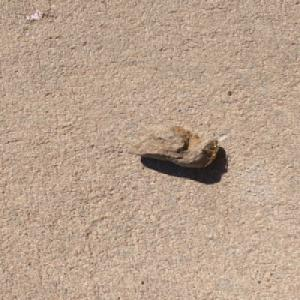Rock: (125, 124, 220, 168)
